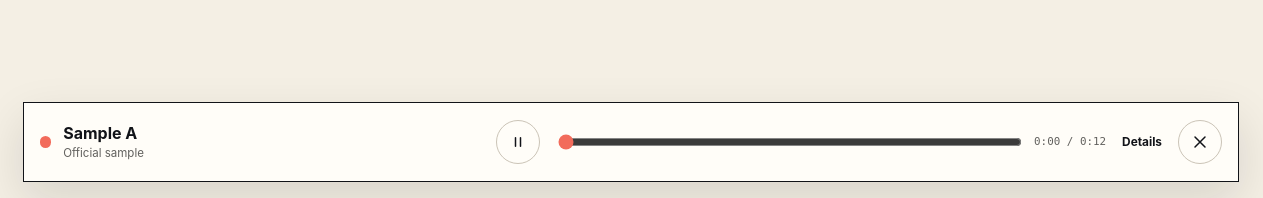
Test case: mini player › keeps compact transcript, source, and license details available in the player
The width and height of the screenshot is (1263, 198).
Click the heading named "Preview details: transcript, source, and license": x=1142, y=142 top-left (1122, 135), bottom-right (1162, 149)
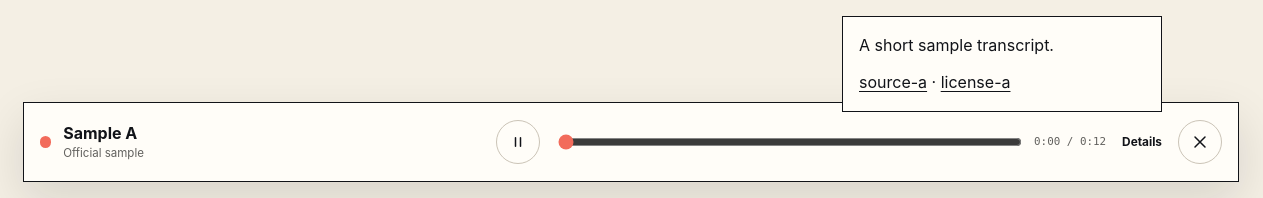
Check: the text "A short sample transcript." is shown, box top-left (859, 35), bottom-right (1054, 55)
